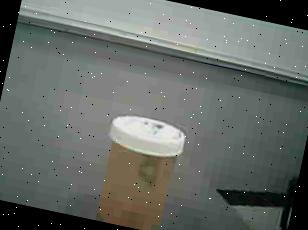Bottle B: (87, 108, 193, 230)
